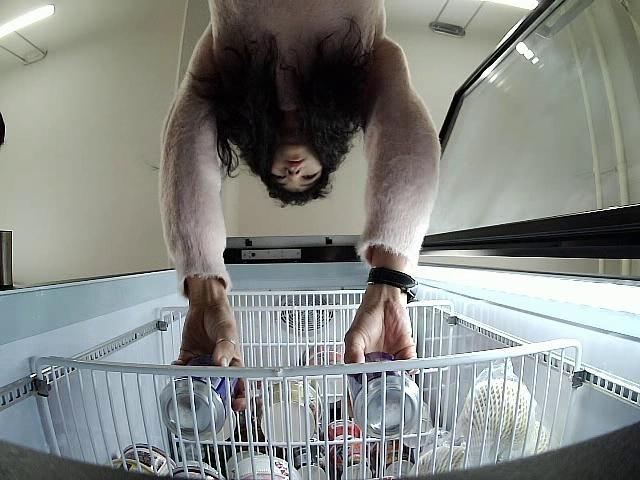14_welchsGrape: (162, 355, 244, 443), (347, 347, 423, 434)
